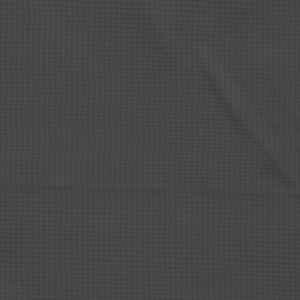Wrinkle: (181, 37, 300, 223)
